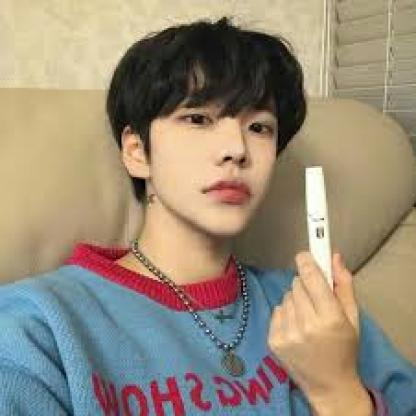person: (115, 13, 302, 228)
